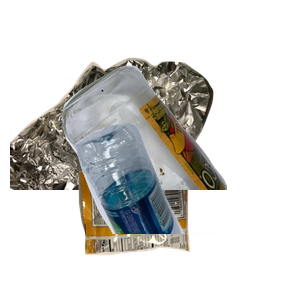glass: (60, 63, 300, 243)
metal: (10, 47, 216, 227)
plastic: (73, 120, 300, 300)
trash: (76, 159, 259, 300)
